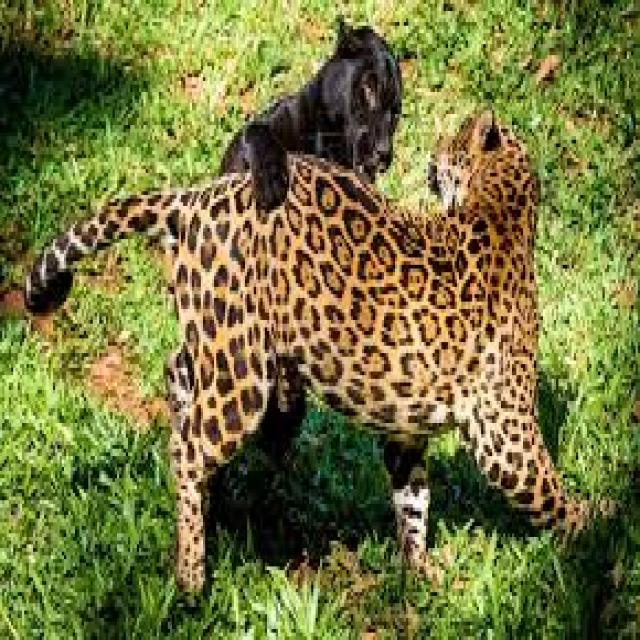Jaguar: (42, 173, 554, 548), (200, 37, 402, 180)
